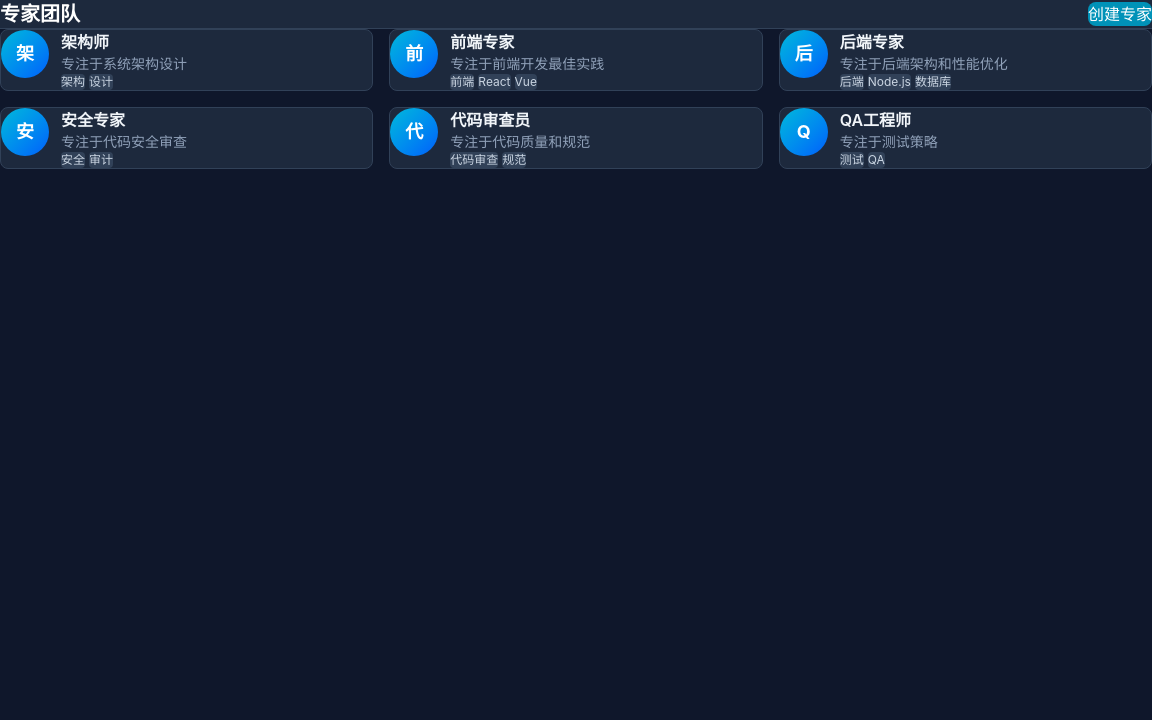
ExpertManager Page › 应该打开创建专家模态框
Click the button "创建专家": {"x": 1120, "y": 14} [1088, 2, 1151, 26]
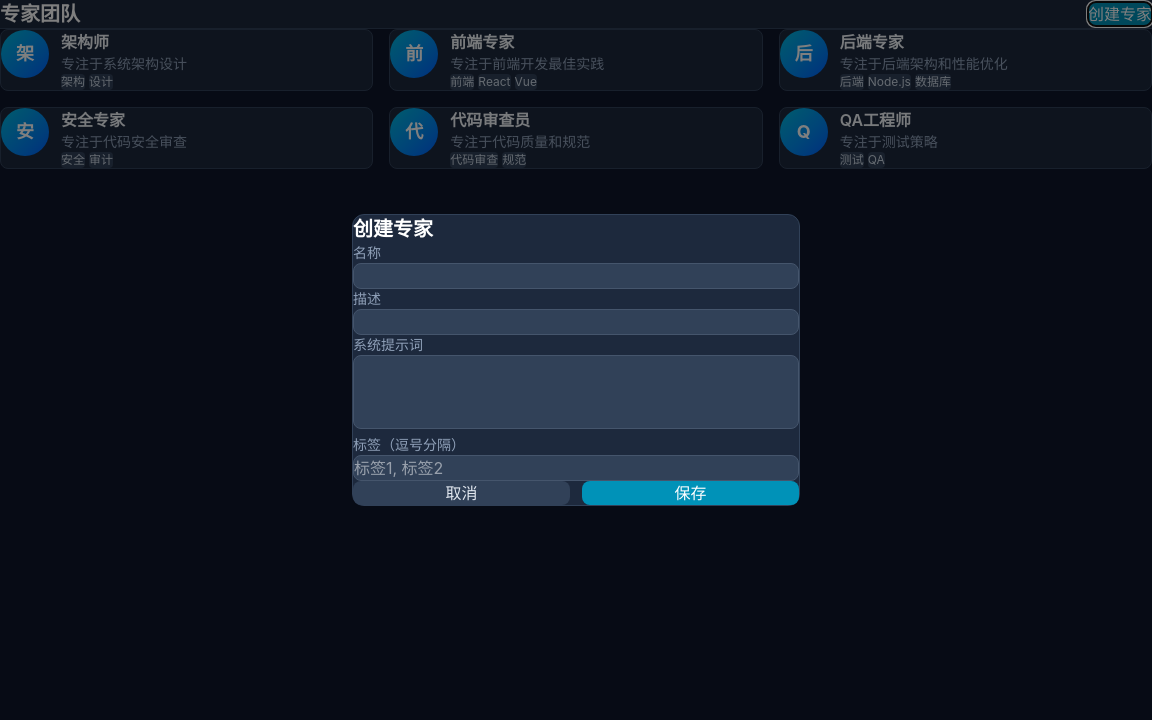
expect the heading "创建专家" is shown: met, box [353, 217, 433, 241]
